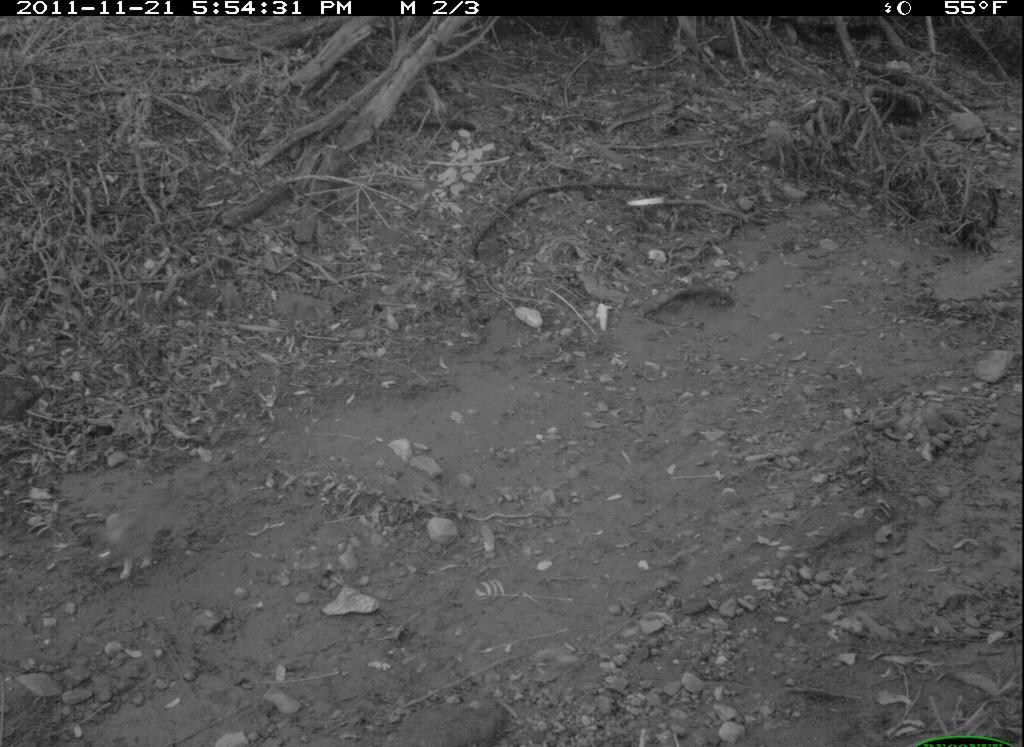rabbit: (91, 489, 194, 577)
